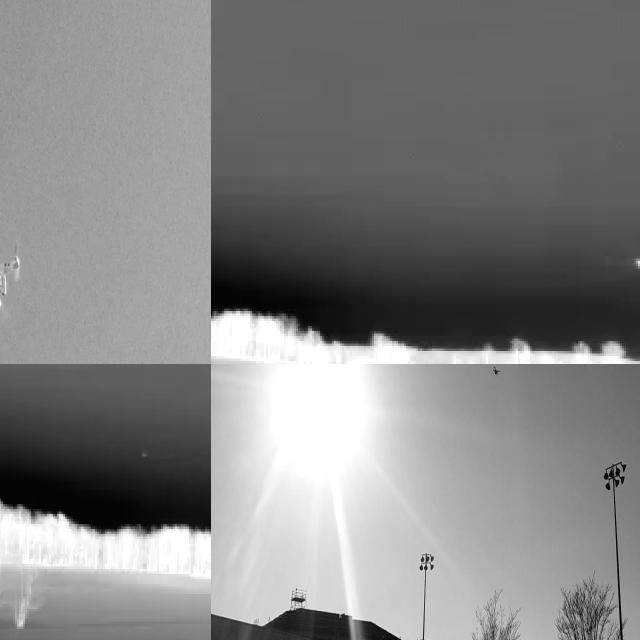0: (130, 442, 160, 474)
1: (624, 248, 640, 281)
drone: (0, 217, 33, 332), (491, 364, 502, 378)
